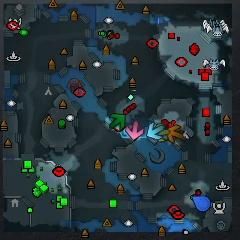p1: (192, 195, 211, 212)
x1: (125, 121, 145, 140)
x2: (155, 124, 170, 142)
x3: (147, 123, 164, 139)
x4: (109, 113, 126, 130)
x5: (167, 125, 185, 143)
